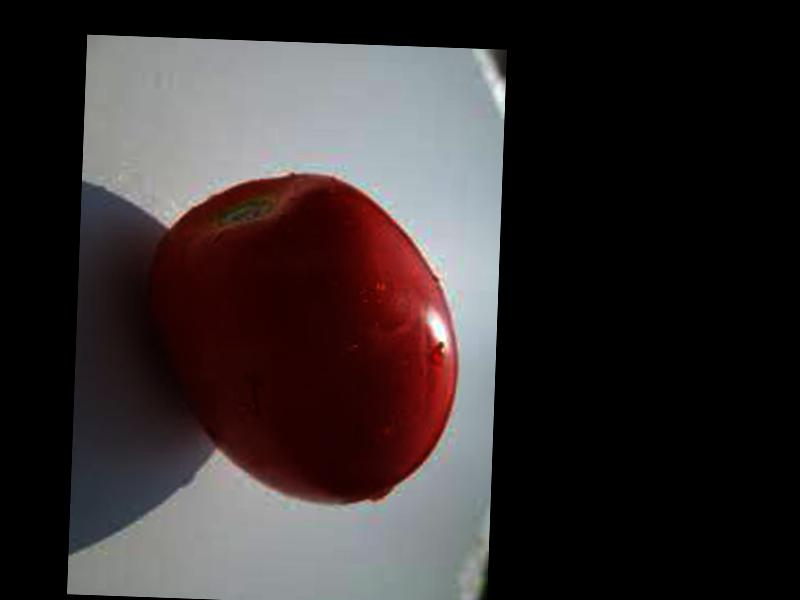Tomato: (143, 169, 465, 506)
